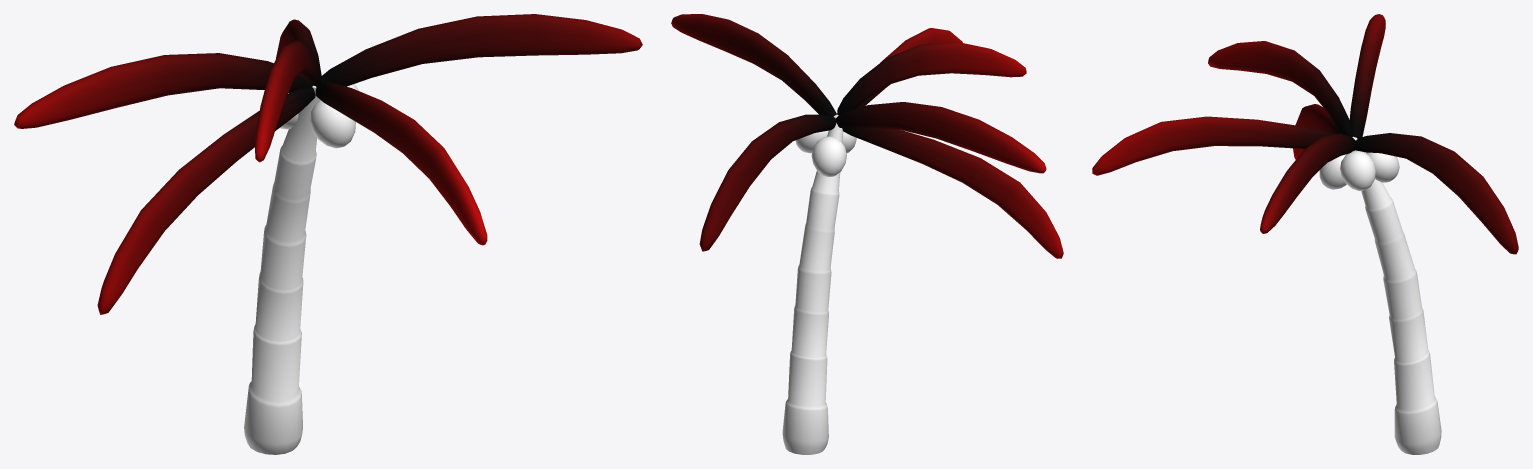
File: KM_CoconutTree01.fbx
The picture shows the model from 3 angles, left to right: view 1: azimuth 30°, elevation 25°; view 2: azimuth 150°, elevation 25°; view 3: azimuth 270°, elevation 25°; orthographic projection. The views are drawn at different scales.
Visible parts, largest first — view 1: Cocotier; view 2: Cocotier; view 3: Cocotier.
Boxes of the visible parts, x1,y1,x2,y2 form: Cocotier: [14, 14, 642, 454]; Cocotier: [671, 14, 1063, 454]; Cocotier: [1092, 14, 1518, 454].
Bounding box in the file's own units: 5.81 × 4.75 × 4.94.
